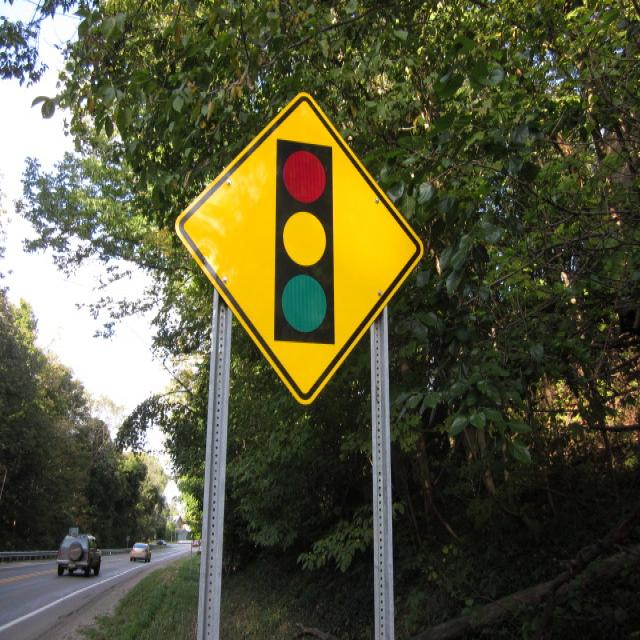warning: (175, 83, 427, 411)
